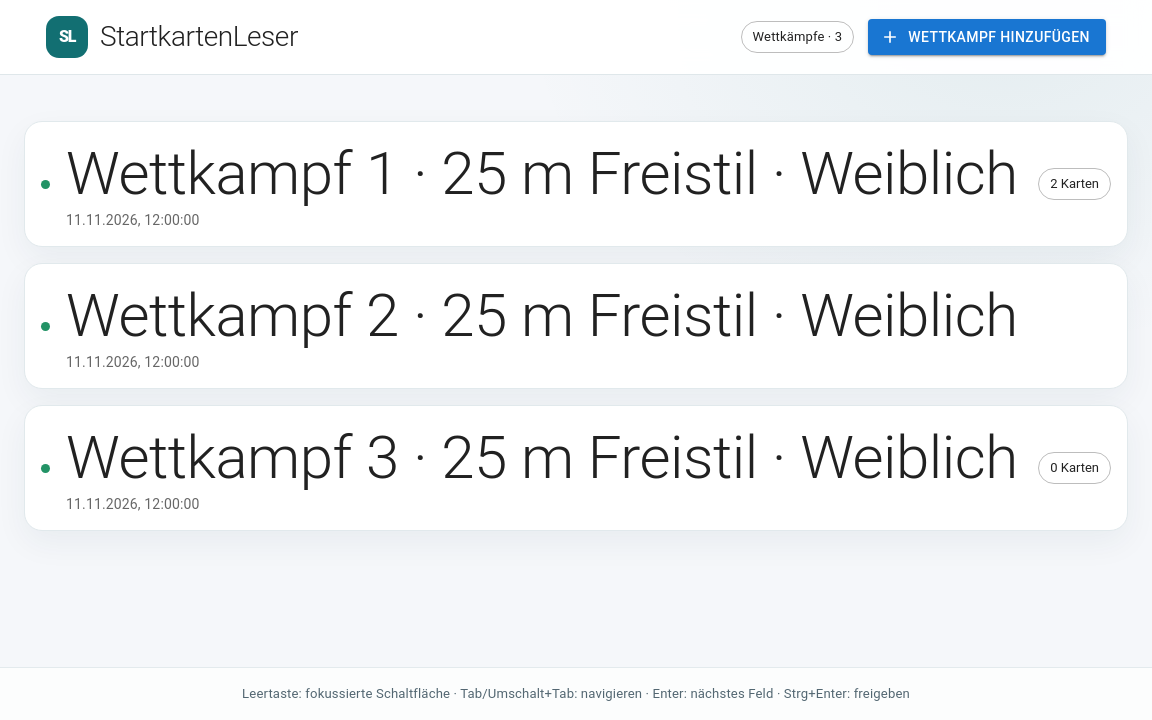
Test: shared page layout › shows known card counts in clickable overview rows and opens creation from the header
Check: the text "2 Karten" is shown, box [1050,176,1099,191]
Check: the 1st text "11.11.2026, 12:00:00" is shown, box [66,212,200,228]
Click the button "Wettkampf hinzufügen" at (987, 37), box [868,19,1106,55]
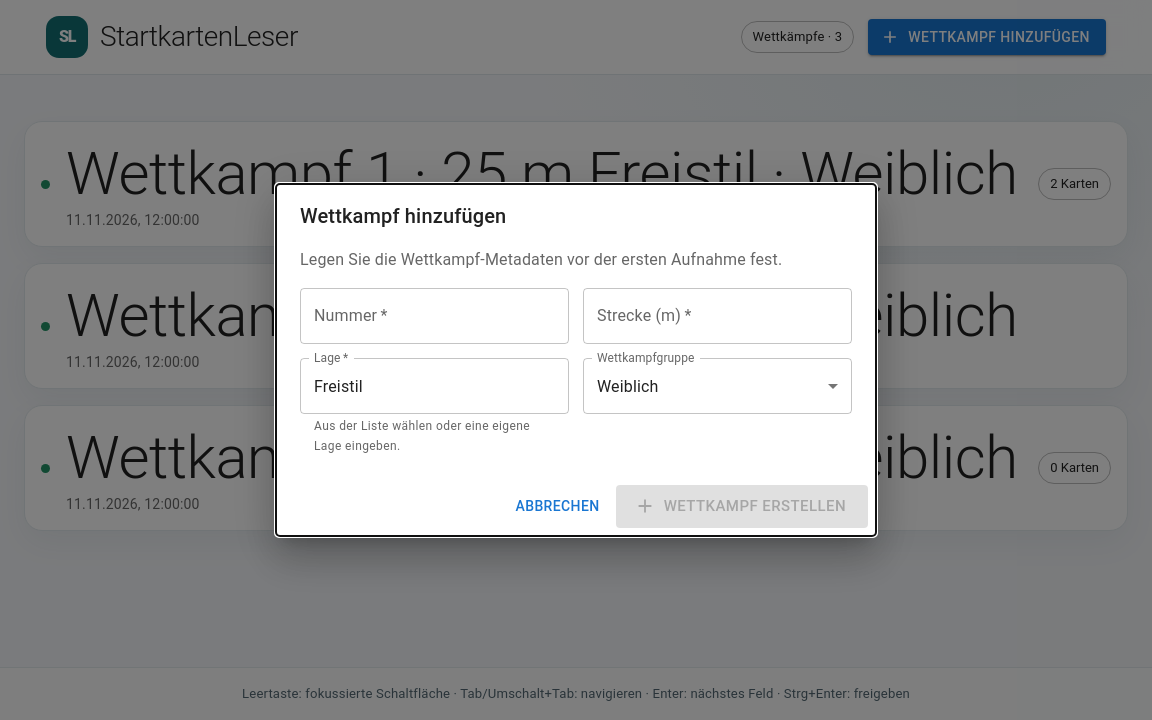
Check: the number field labelled "Nummer" is shown, box [300,288,569,344]
Check: the dropdown labelled "Lage" is shown, box [309,368,530,406]
Click the button "Abbrechen" at (558, 506), box [507,488,608,525]
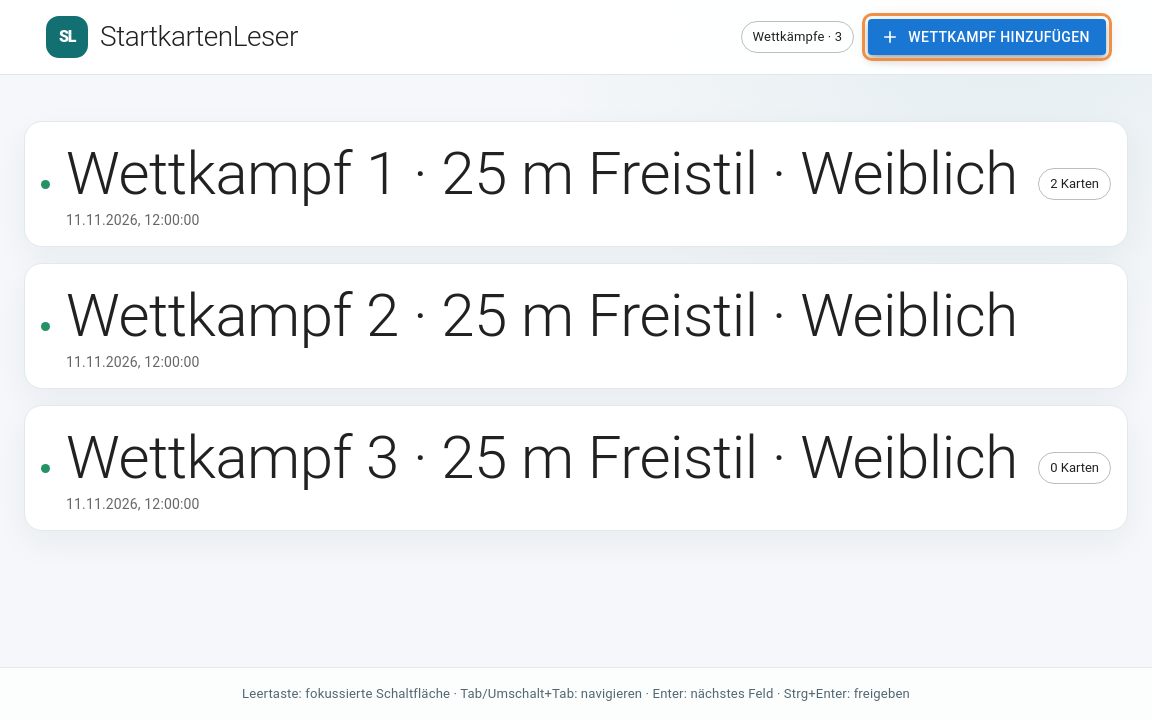
Check: the dialog is gone
